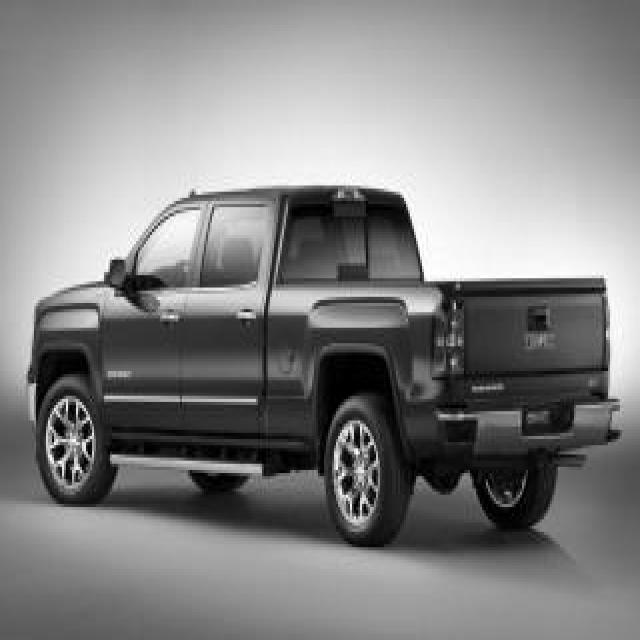Car: (28, 187, 620, 544)
